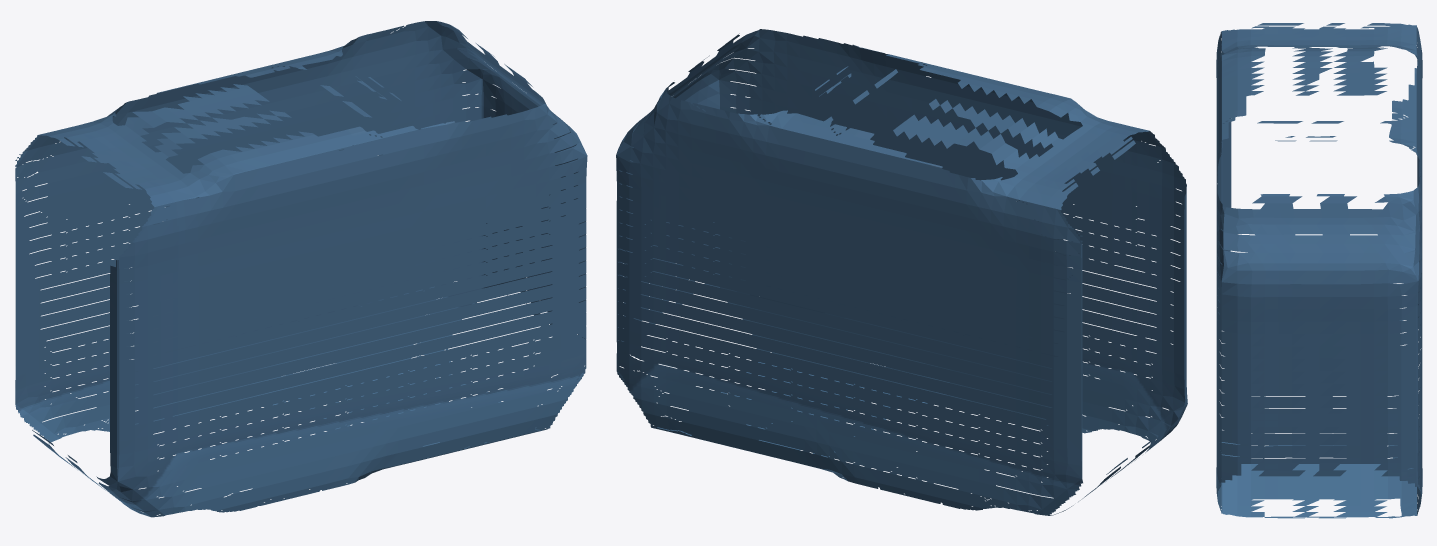
The picture shows the model from 3 angles, left to right: view 1: azimuth 30°, elevation 25°; view 2: azimuth 150°, elevation 25°; view 3: azimuth 270°, elevation 25°; orthographic projection. The views are drawn at different scales.
Visible parts, largest first — view 1: reconstruction; view 2: reconstruction; view 3: reconstruction.
Boxes of the visible parts, x1,y1,x2,y2 form: reconstruction: (15,21,587,517); reconstruction: (616,29,1187,515); reconstruction: (1216,23,1422,518).
Size of the model in its own units: 1 by 0.7397 by 0.3928.
1 material, 1 textured.
